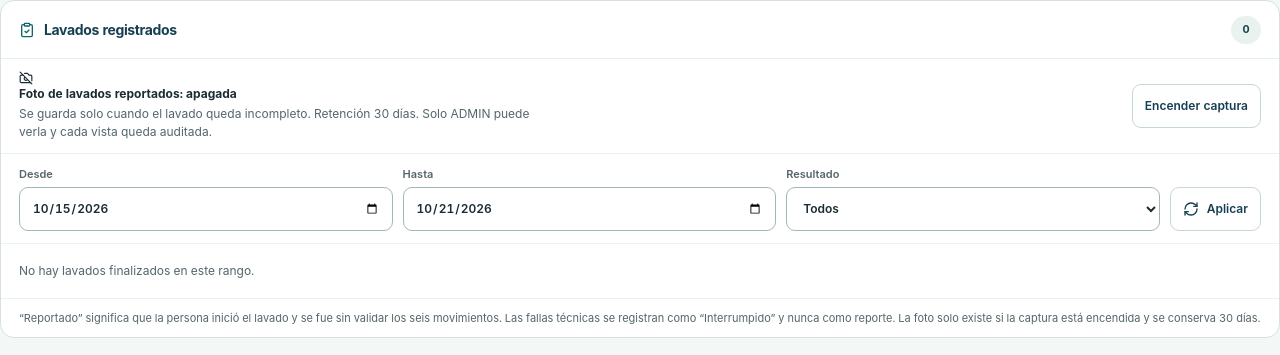
Test: AdminWashReports › turns the capture switch on and off from the ADMIN panel
The image size is (1280, 355).
Expected: the text "Foto de lavados reportados: apagada" is shown, 19,71 -> 237,101
Click the button "Encender captura" at [1196, 106], box 1132,84 -> 1261,128
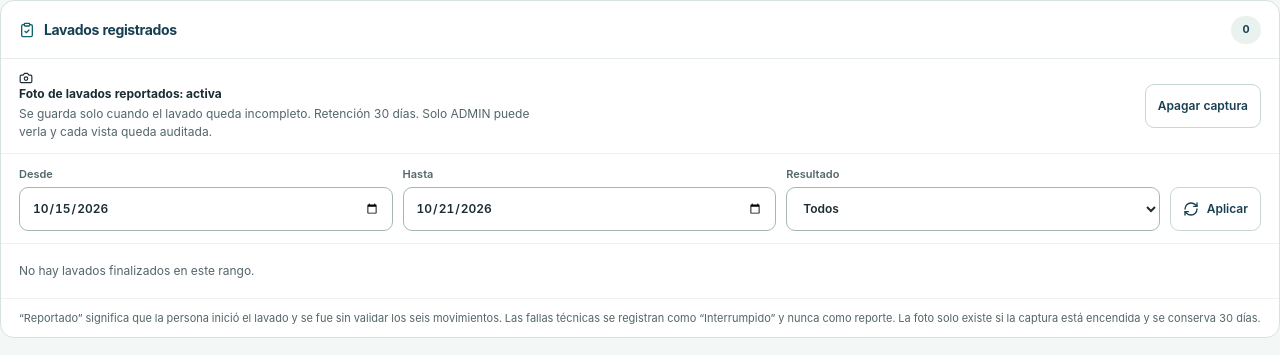
Expected: the text "Foto de lavados reportados: activa" is shown, 19,71 -> 222,101
Click the button "Apagar captura" at [1203, 106], box 1145,84 -> 1261,128
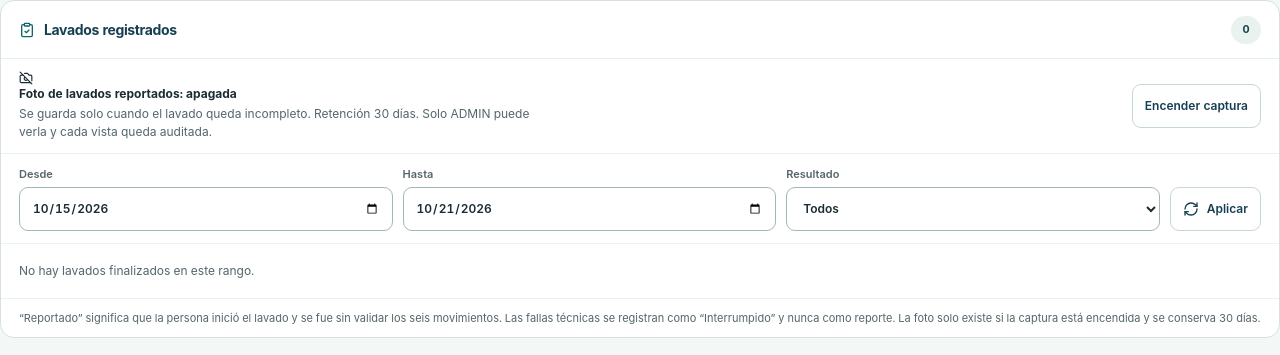
Expected: the text "Foto de lavados reportados: apagada" is shown, 19,71 -> 237,101
